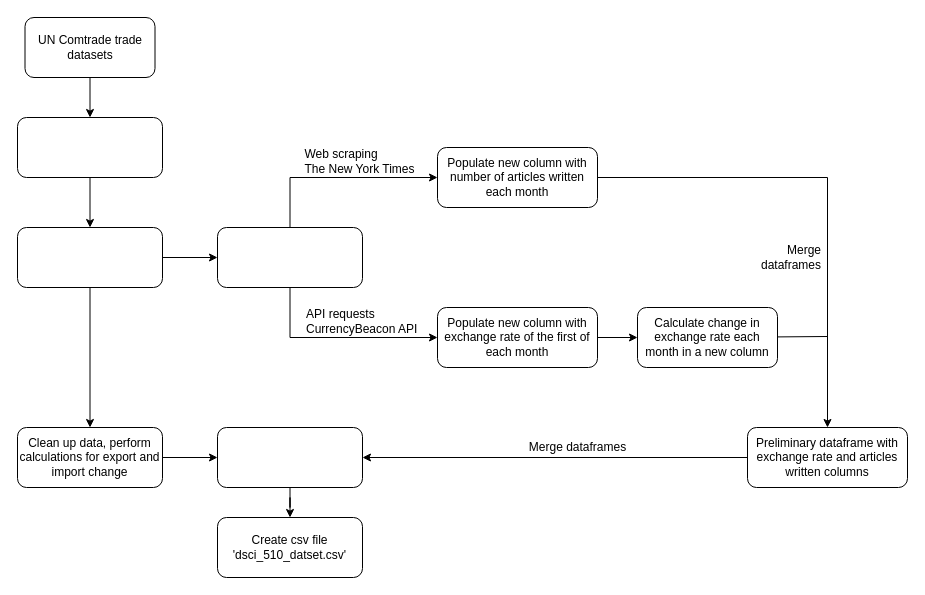
The diagram is 925 pixels wide and 595 high, and some of its shapes have lost their labels. Here are the shapes that lost their labels. From the top down, the centre of each, then its label:
(89,147): Compile trade data from each year into one csv, and clean up
(89,257): Read compiled csv into pandas dataframe
(289,257): Use monthly period to create new dataframe
(289,457): Final dataframe
